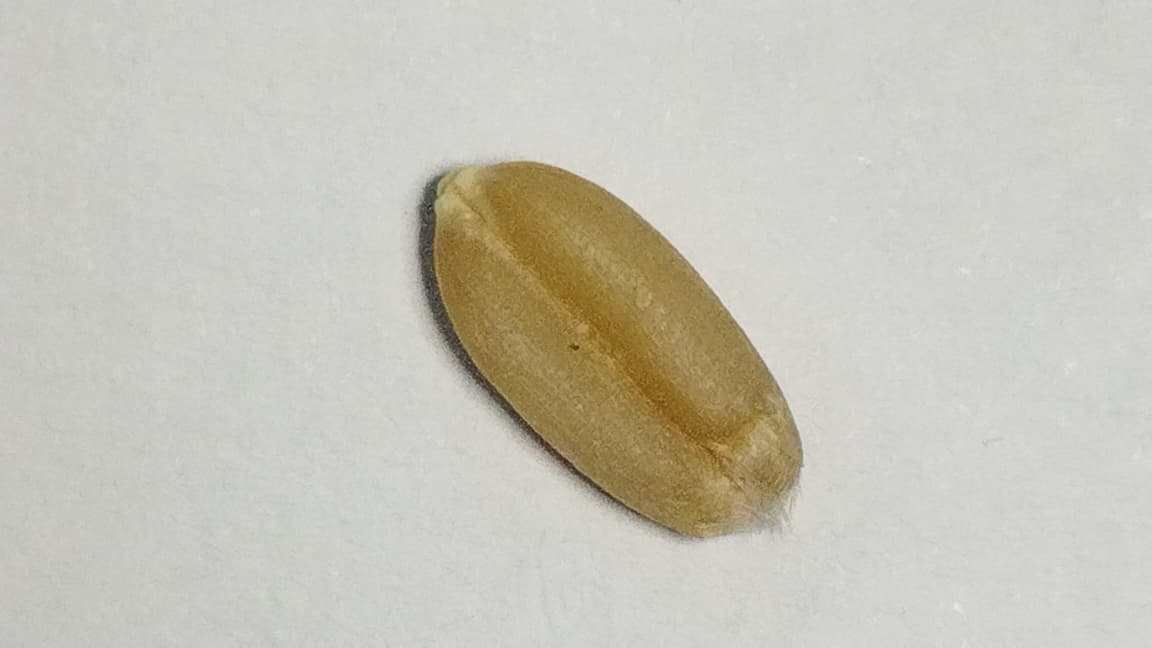healthy: (434, 162, 801, 535)
